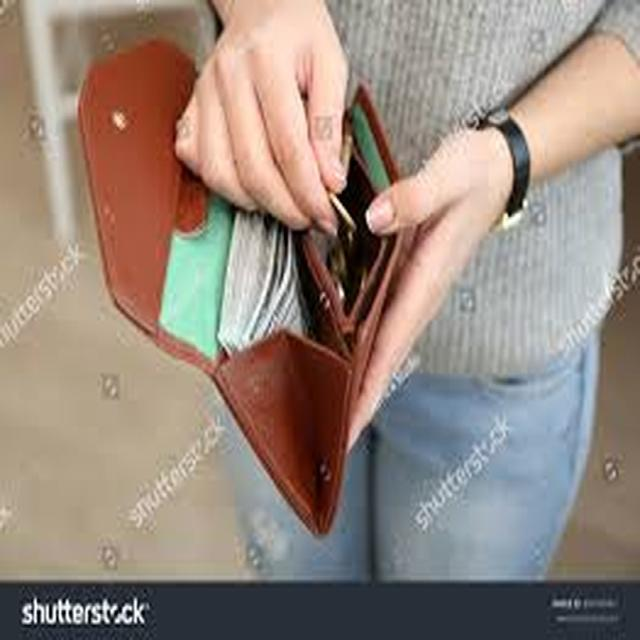wallet: (62, 44, 353, 564)
